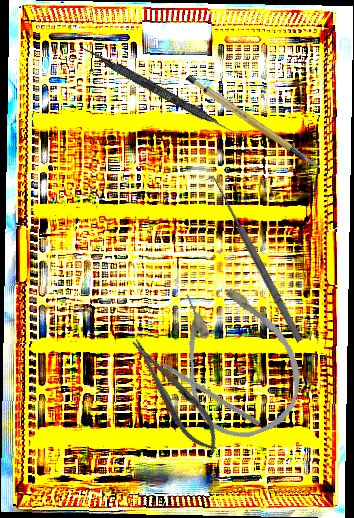Cannula: (159, 267, 316, 450)
Hook Surgical: (201, 173, 306, 347)
Needle Holder: (121, 330, 230, 461)
Pusher: (142, 348, 261, 427)
Scalpel Handle: (183, 58, 321, 189)
Spatula Surgical: (76, 43, 251, 144)
